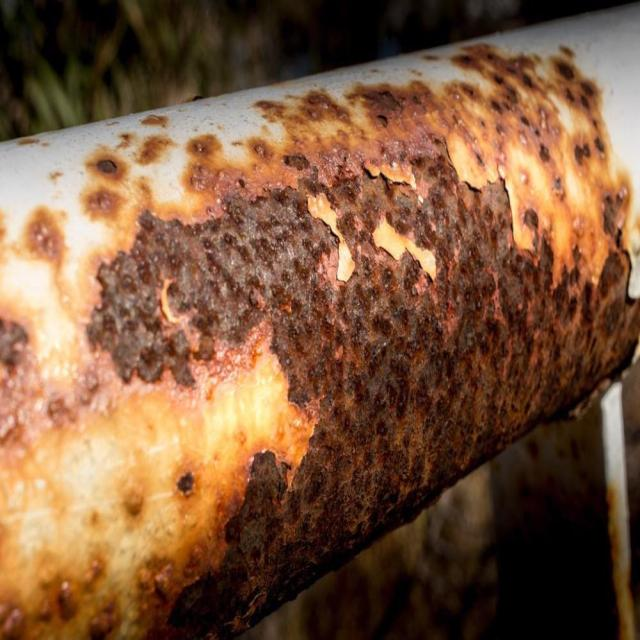corrosion: (0, 3, 640, 640)
